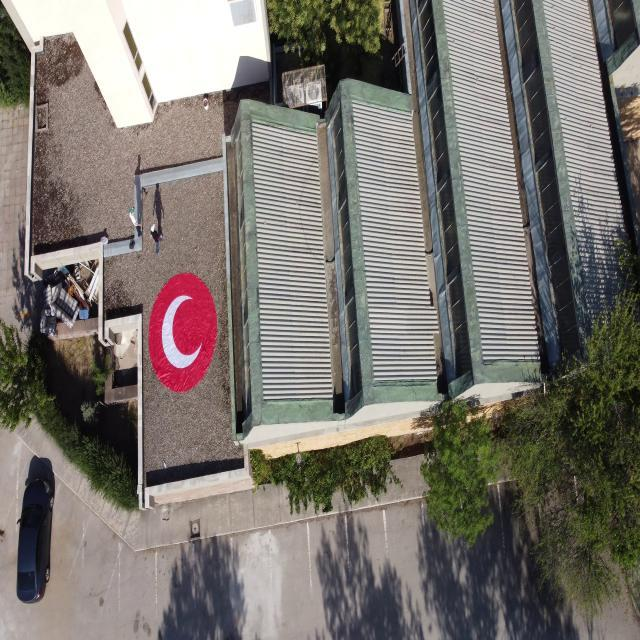vehicle: (147, 273, 217, 394), (16, 476, 53, 604), (148, 225, 162, 251), (130, 204, 142, 234)
